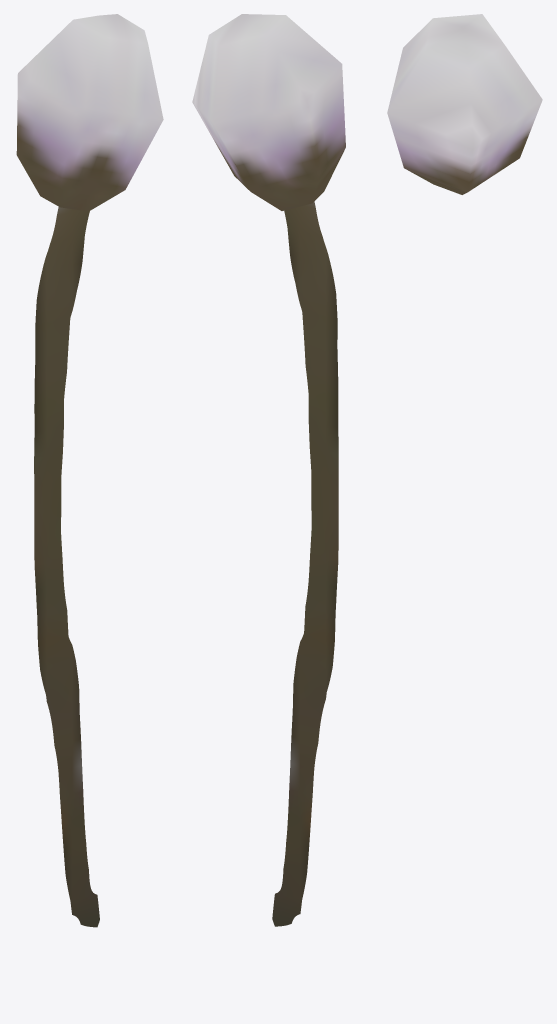
Rendered from P_FlowerDesertBulb01.obj.
3 renders of one model, left to right at view 1: azimuth 30°, elevation 25°; view 2: azimuth 150°, elevation 25°; view 3: azimuth 270°, elevation 25°, orthographic.
Size of the model in its own units: 0.1458 by 0.8743 by 0.126.
